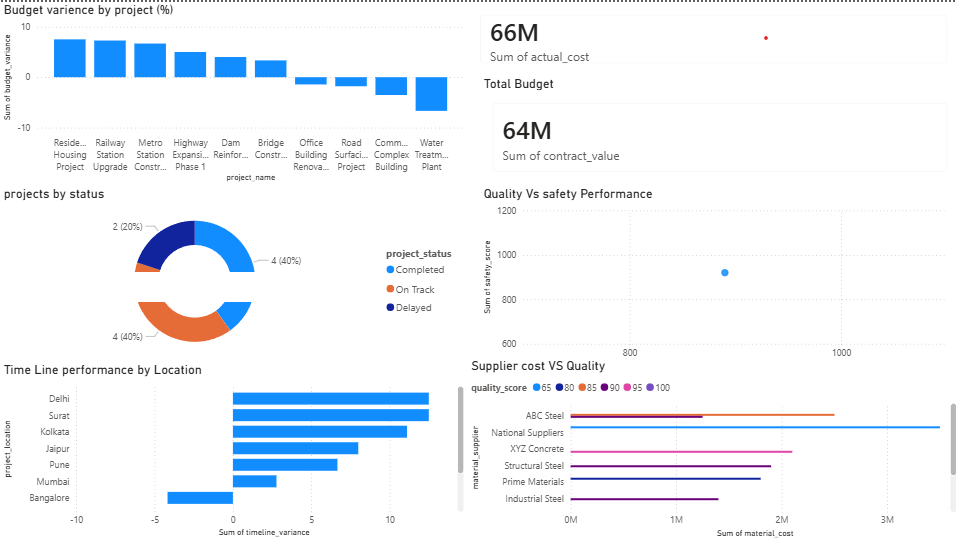

What the dashboard file says about the page in this screenshot:
{"tool":"powerbi","page":{"name":"Page 1","canvas":[1280,720],"ordinal":0},"visuals":[{"type":"clusteredColumnChart","title":"Budget varience by project (%)","fields":{"Category":["cleaned_construction_data.project_name"],"Y":["Sum(cleaned_construction_data.budget_variance)"]},"box":[0,0,623.6,244.6],"z":0},{"type":"textbox","box":[235.5,407.3,116.4,242.7],"z":1},{"type":"donutChart","title":"projects by status","fields":{"Category":["cleaned_construction_data.project_status"],"Y":["CountNonNull(cleaned_construction_data.project_id)"]},"box":[0,244.6,623.6,236],"z":2},{"type":"scatterChart","title":"Quality Vs safety Performance","fields":{"X":["Sum(cleaned_construction_data.quality_score)"],"Y":["Sum(cleaned_construction_data.safety_score)"]},"box":[639.5,244.6,640.8,250.7],"z":3},{"type":"cardVisual","fields":{"Data":["Sum(cleaned_construction_data.actual_cost)"]},"box":[623.6,0,656.7,99],"z":4},{"type":"clusteredBarChart","title":"Time Line performance by Location ","fields":{"Y":["Sum(cleaned_construction_data.timeline_variance)"],"Category":["cleaned_construction_data.project_location"]},"box":[0,480.8,623.3,238.6],"z":5},{"type":"clusteredBarChart","title":"Supplier cost VS Quality","fields":{"Category":["cleaned_construction_data.material_supplier"],"Y":["Sum(cleaned_construction_data.material_cost)"],"Series":["cleaned_construction_data.quality_score"]},"box":[623.3,475.5,657.1,244],"z":6},{"type":"cardVisual","title":"Total Budget","fields":{"Data":["Sum(cleaned_construction_data.contract_value)"]},"box":[639.5,99,640.8,145.5],"z":7},{"type":"textbox","box":[100.3,359.5,360.7,40.4],"z":11}]}

Visuals, with their boxes in screenshot pixels (x1, y1, x2, y2), scaled from the page's 1280x720 canvas onto the 956x541 screenshot:
"Budget varience by project (%)" clusteredColumnChart: crop(0, 0, 466, 184)
textbox: crop(176, 306, 263, 488)
"projects by status" donutChart: crop(0, 184, 466, 361)
"Quality Vs safety Performance" scatterChart: crop(478, 184, 955, 372)
cardVisual - Sum(cleaned_construction_data.actual_cost): crop(466, 0, 955, 74)
"Time Line performance by Location " clusteredBarChart: crop(0, 361, 466, 540)
"Supplier cost VS Quality" clusteredBarChart: crop(466, 357, 955, 540)
"Total Budget" cardVisual: crop(478, 74, 955, 184)
textbox: crop(75, 270, 344, 300)
